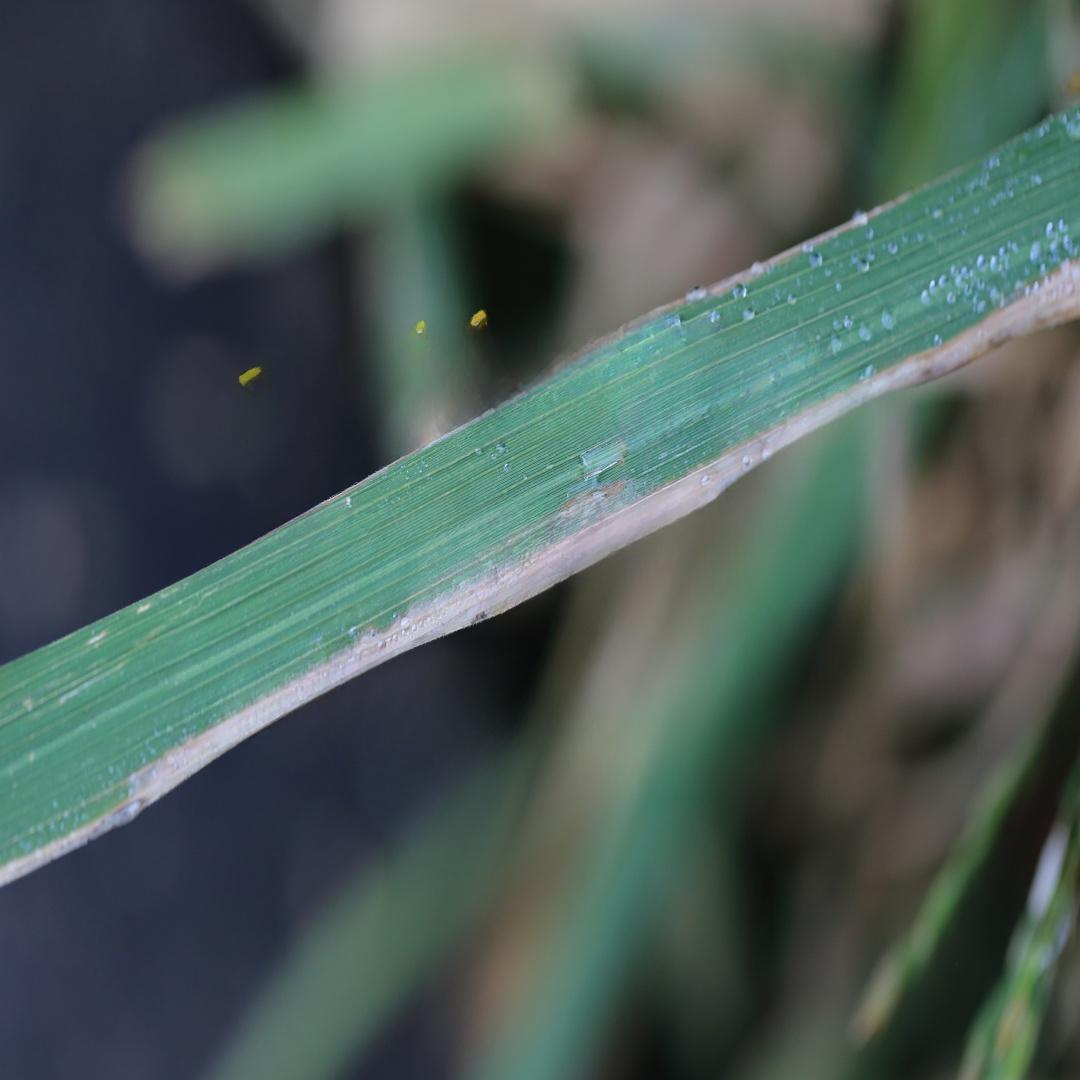BLB: (1, 258, 1079, 885), (537, 197, 910, 390)
LEAF: (0, 107, 1079, 886)
